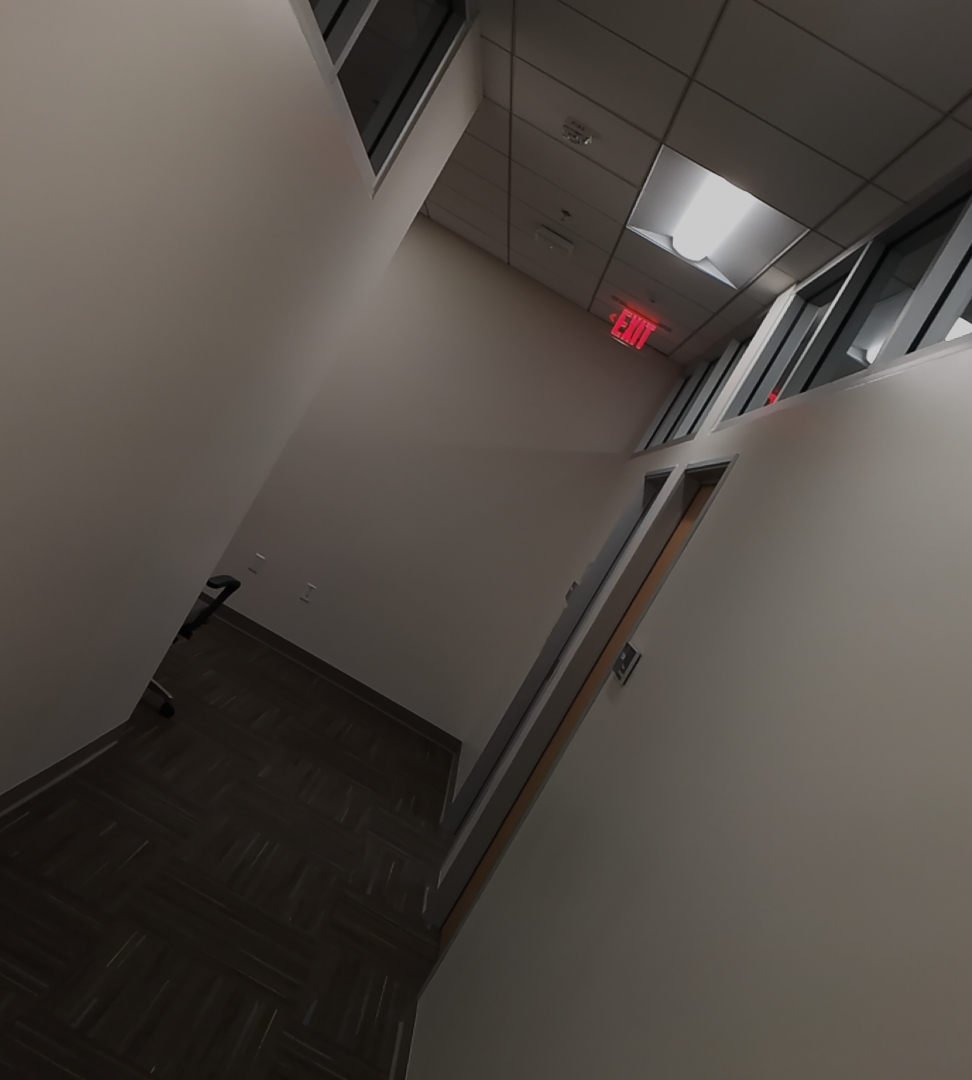emergency_exit: (606, 305, 658, 352)
